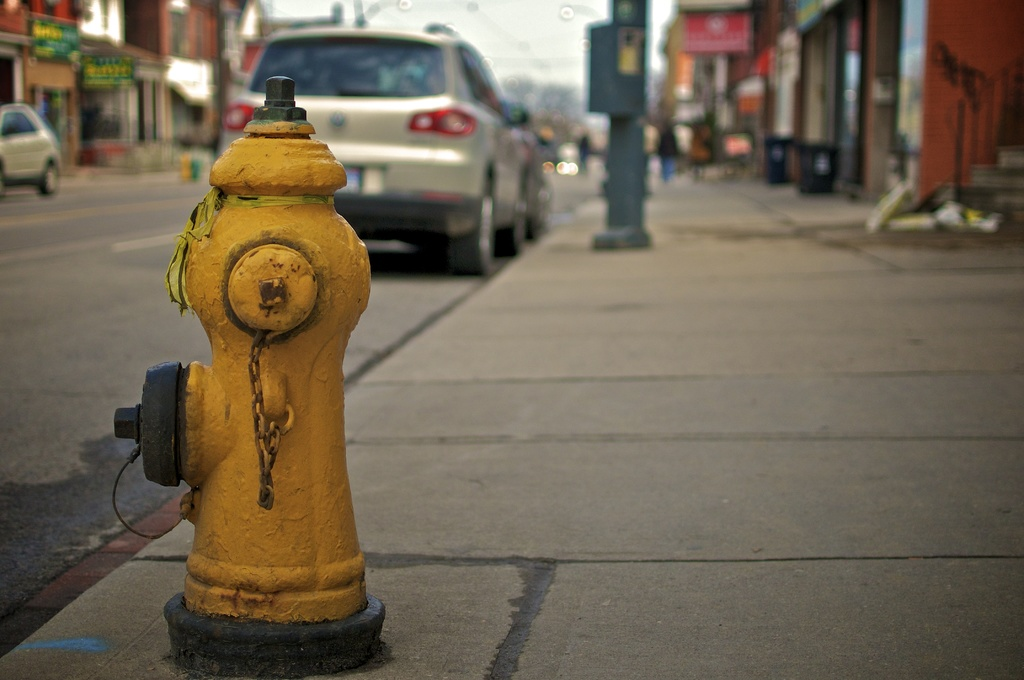Car: (225, 19, 529, 278), (499, 93, 549, 238), (0, 103, 59, 197)
